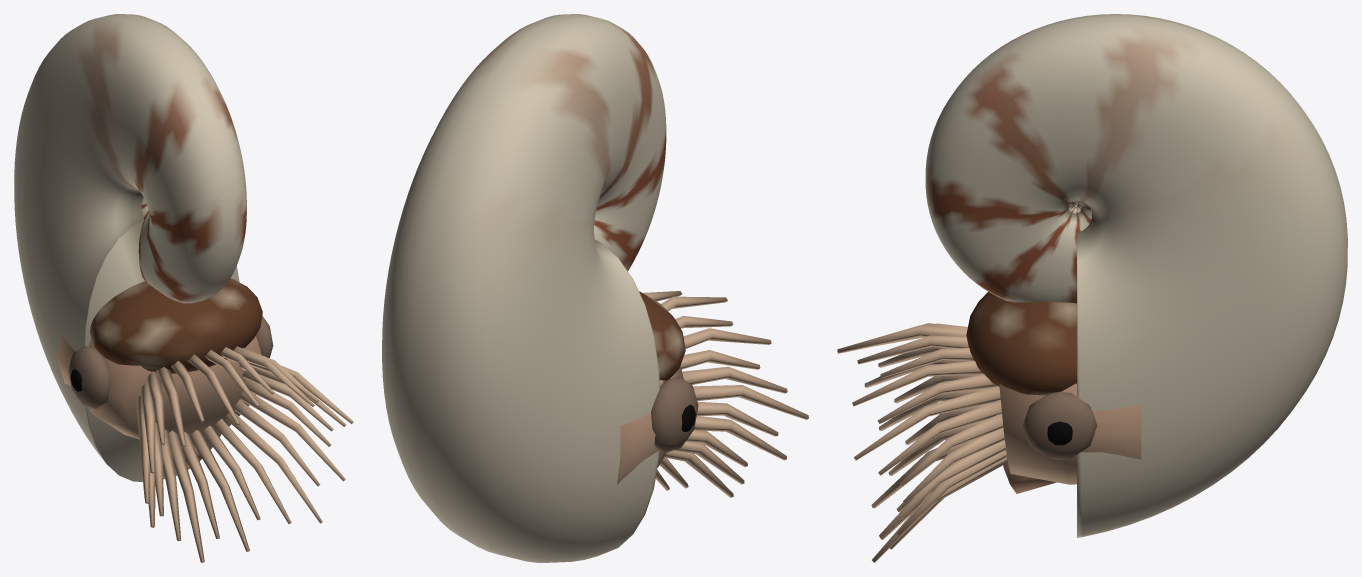
The model's file is AturiaZiczac.fbx.
The picture shows the model from 3 angles, left to right: view 1: azimuth 30°, elevation 25°; view 2: azimuth 150°, elevation 25°; view 3: azimuth 270°, elevation 25°; orthographic projection. The views are drawn at different scales.
Visible parts, largest first — view 1: AturiaZiczac; view 2: AturiaZiczac; view 3: AturiaZiczac.
Part boxes in pixels (bbox=[...]): AturiaZiczac: bbox=[14, 14, 353, 562]; AturiaZiczac: bbox=[382, 14, 808, 562]; AturiaZiczac: bbox=[837, 14, 1347, 562].
Size of the model in its own units: 0.7737 by 1.61 by 1.43.
